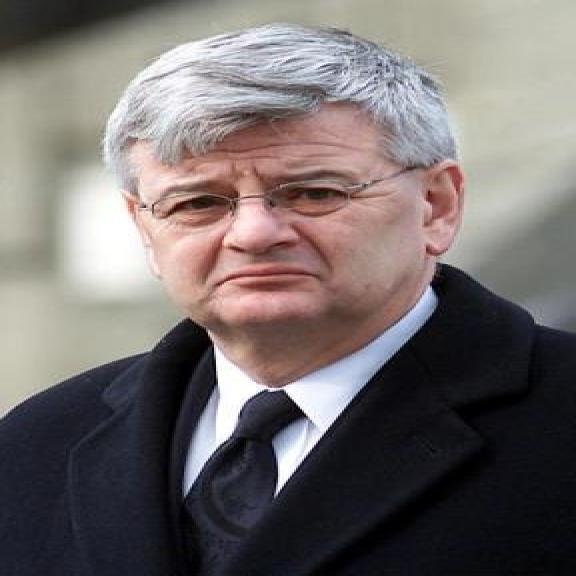face: (124, 110, 470, 344)
